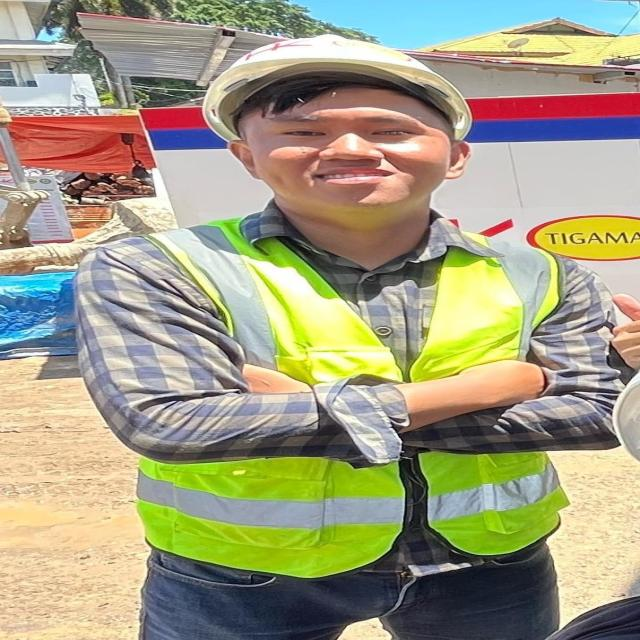safetyhelmet: (184, 34, 503, 256)
